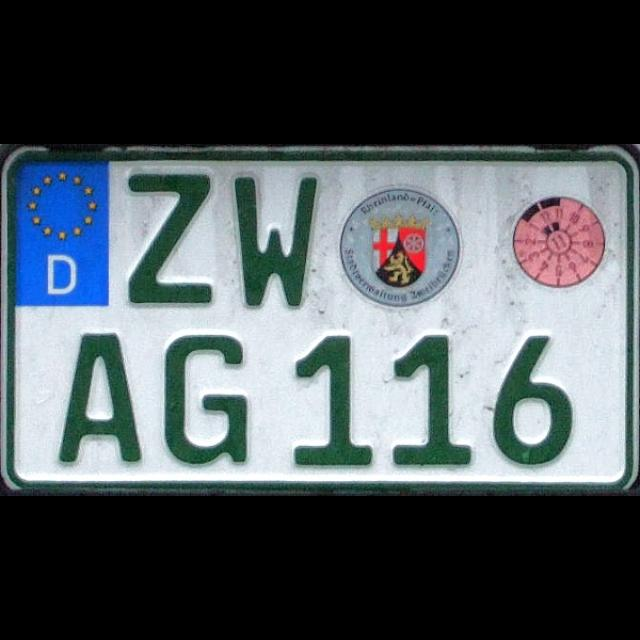d_license_plate: (12, 152, 632, 490)
